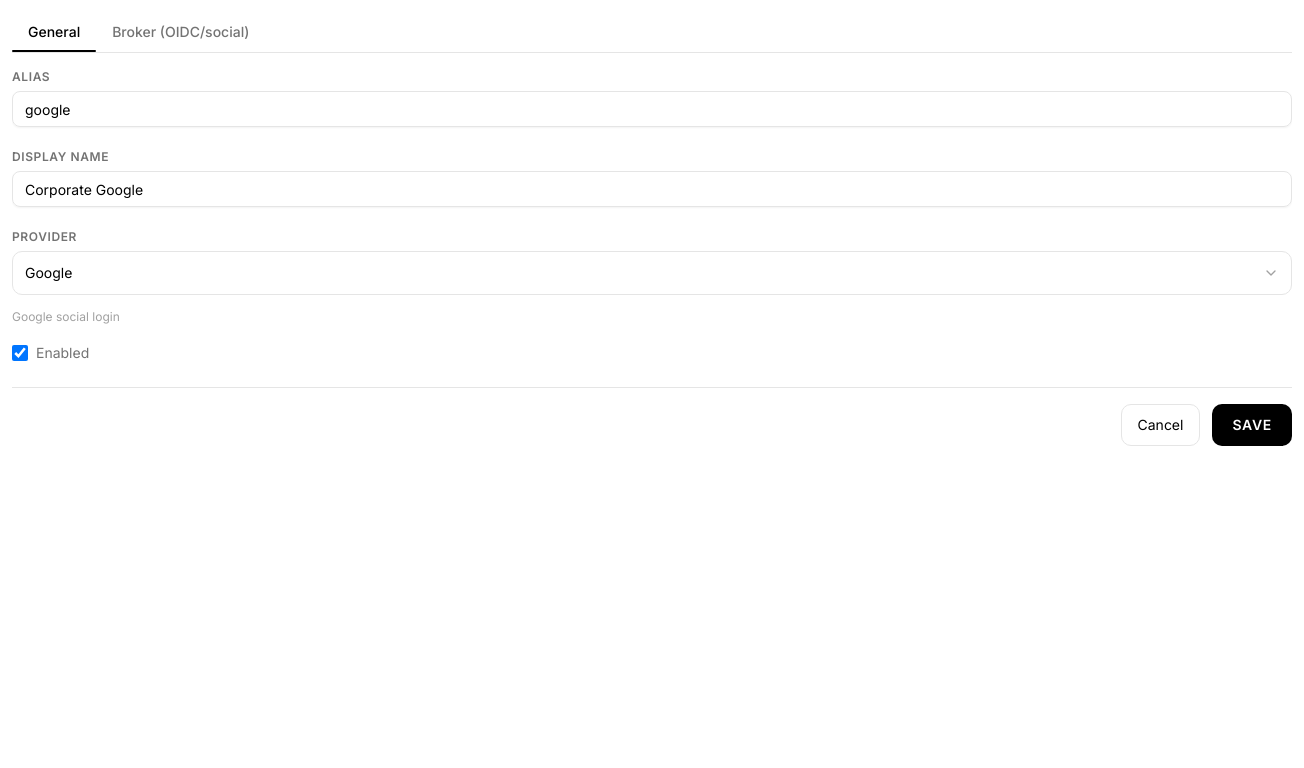
Test: IdPForm broker section › does not prefill over existing values in edit mode
Expected: the field labelled "Display Name" holds "Corporate Google", [12, 171, 1292, 207]
Click the button "Broker (OIDC/social)" at (181, 32), box [96, 12, 266, 52]
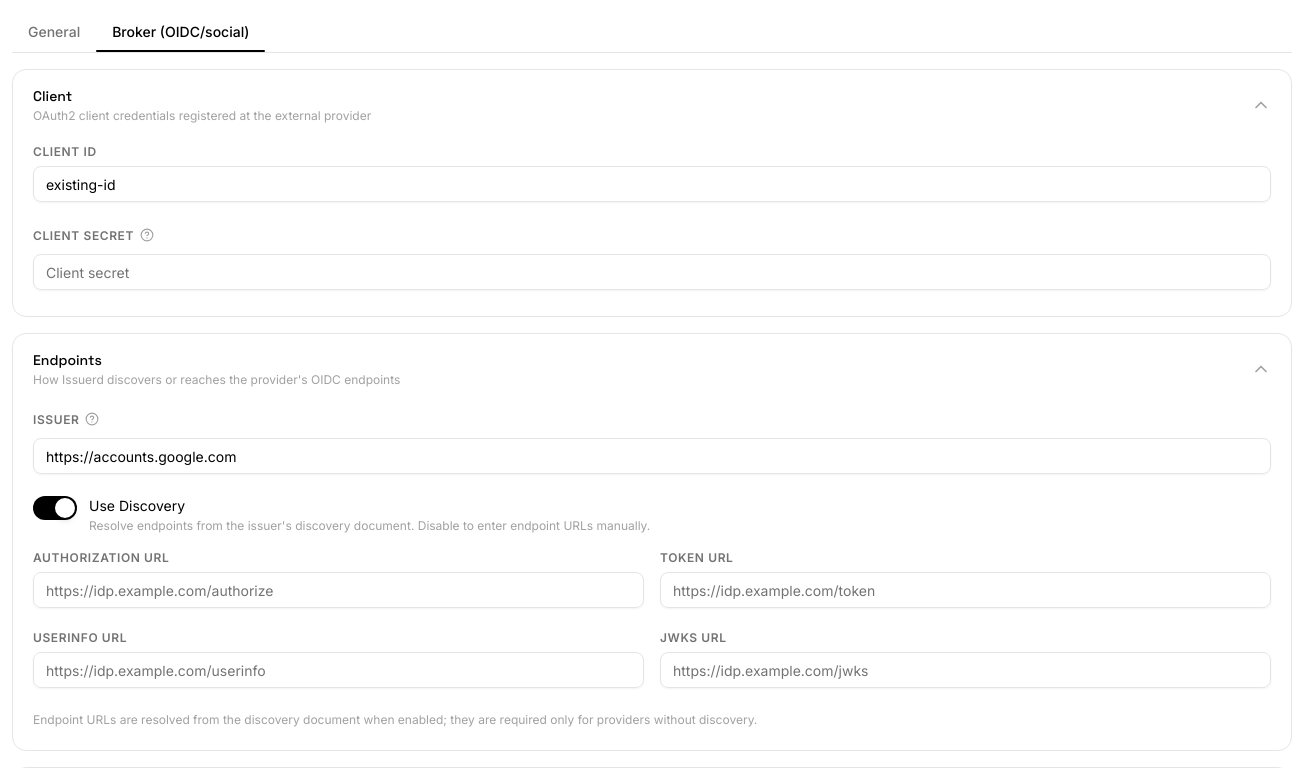
Expected: the field labelled "Client ID" holds "existing-id", [33, 166, 1271, 202]
